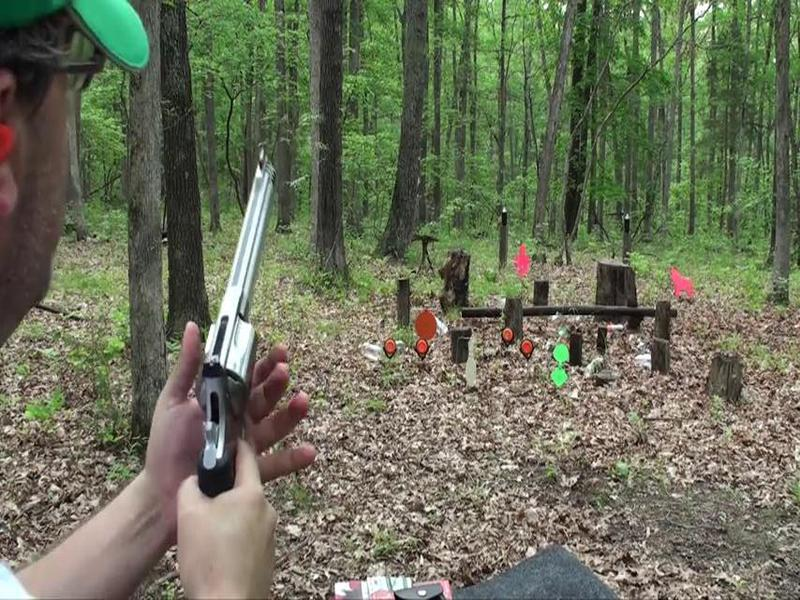Revolver: (173, 151, 319, 508)
